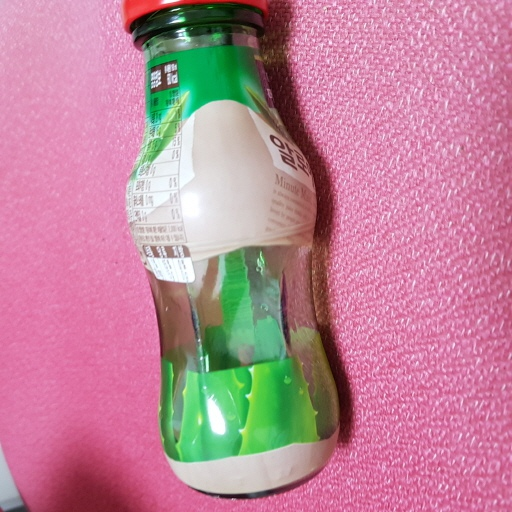Glass_4: (116, 1, 343, 500)
